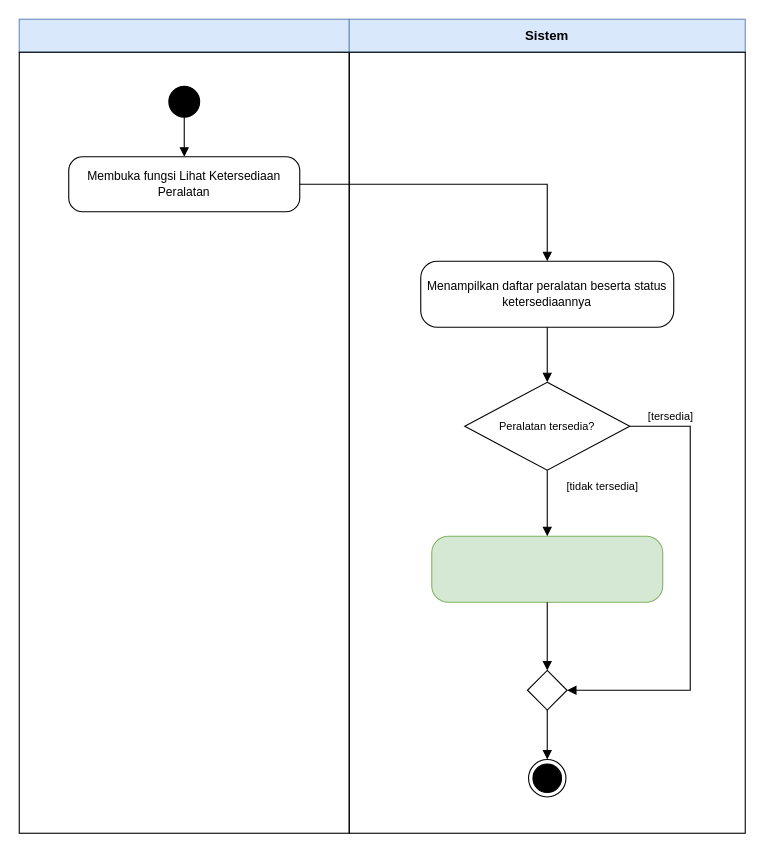
This 765x853 diagram has some shape labels left out. The shapes that lost their labels are listed below. From the top down, each one's box as (x1, y1, x2, y2) in pixels, then its label:
(18, 18, 349, 52): Peminjam
(431, 535, 663, 602): Menampilkan pesan tidak ada peralatan yang tersedia
